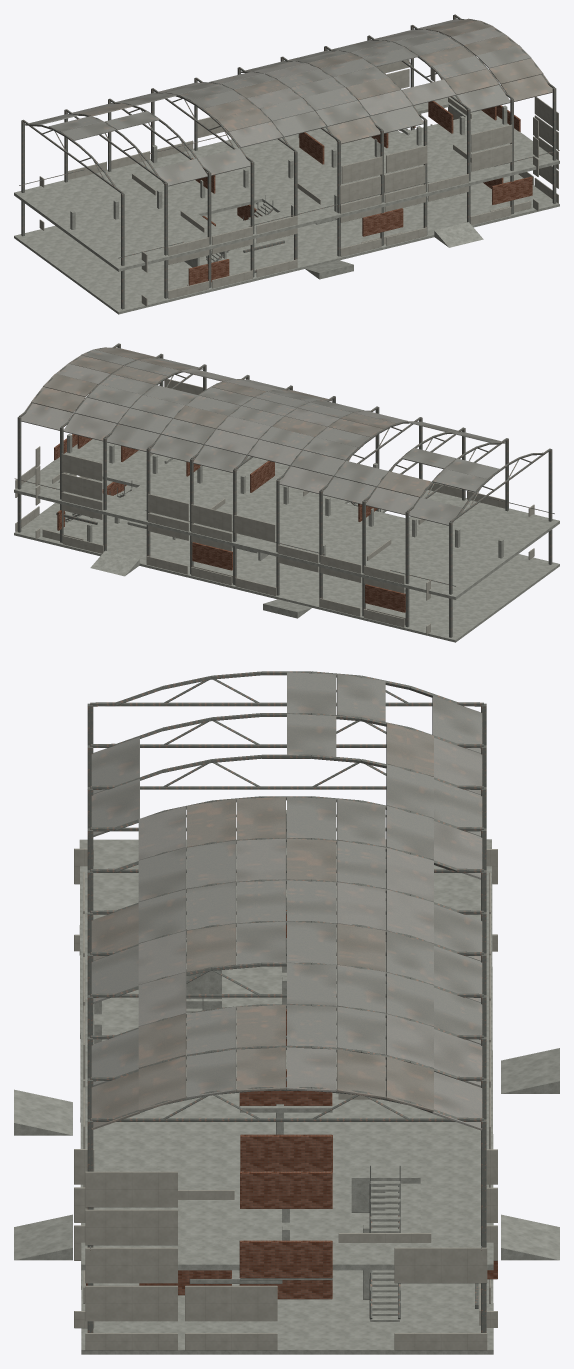
Rendered from fortress-shell-lod0.glb.
3 renders of one model, top to bottom at view 1: azimuth 30°, elevation 25°; view 2: azimuth 150°, elevation 25°; view 3: azimuth 270°, elevation 25°, orthographic. The views are drawn at different scales.
Parts seen in each view (by area): view 1: GroundSlab, BATCH_FLOOR_floor_1_floor_1_cement_board_FLOOR_floor_1, BATCH_STRUCTURE_shared_ground_steel_STRUCTURE_shared, UpperSlab_11, UpperSlab_02, BATCH_FLOOR_ground_ground_cement_board_FLOOR_ground, BATCH_FLOOR_ground_ground_brick_FLOOR_ground, UpperSlab_04, UpperSlab_06, UpperSlab_03, UpperSlab_01, UpperSlab_00 (+62 smaller); view 2: GroundSlab, BATCH_FLOOR_floor_1_floor_1_cement_board_FLOOR_floor_1, BATCH_STRUCTURE_shared_ground_steel_STRUCTURE_shared, UpperSlab_11, UpperSlab_02, BATCH_FLOOR_ground_ground_cement_board_FLOOR_ground, UpperSlab_13, BATCH_FLOOR_ground_ground_brick_FLOOR_ground, UpperSlab_03, UpperSlab_04, BATCH_FLOOR_ground_ground_concrete_FLOOR_ground, UpperSlab_00 (+64 smaller); view 3: BATCH_FLOOR_floor_1_floor_1_cement_board_FLOOR_floor_1, GroundSlab, BATCH_FLOOR_ground_ground_cement_board_FLOOR_ground, BATCH_FLOOR_ground_ground_concrete_FLOOR_ground, BATCH_FLOOR_floor_1_floor_1_brick_FLOOR_floor_1, BATCH_STRUCTURE_shared_ground_steel_STRUCTURE_shared, UpperSlab_12, UpperSlab_10, UpperSlab_16, UpperSlab_09, UpperSlab_11, BATCH_FLOOR_floor_1_floor_1_concrete_FLOOR_floor_1 (+81 smaller).
Part boxes in pixels (x1,y1,x2,y2): GroundSlab: (14,174,559,314); BATCH_FLOOR_floor_1_floor_1_cement_board_FLOOR_floor_1: (39,59,558,272); BATCH_STRUCTURE_shared_ground_steel_STRUCTURE_shared: (21,15,556,309); UpperSlab_11: (230,133,433,198); UpperSlab_02: (49,190,198,244); BATCH_FLOOR_ground_ground_cement_board_FLOOR_ground: (39,124,558,306); BATCH_FLOOR_ground_ground_brick_FLOOR_ground: (188,126,532,285); UpperSlab_04: (14,164,147,208); UpperSlab_06: (168,174,262,216); UpperSlab_03: (32,177,164,220); UpperSlab_01: (82,214,216,257); UpperSlab_00: (100,227,234,271); GroundSlab: (14,478,559,642); BATCH_FLOOR_floor_1_floor_1_cement_board_FLOOR_floor_1: (15,374,534,600); BATCH_STRUCTURE_shared_ground_steel_STRUCTURE_shared: (17,344,552,637); UpperSlab_11: (140,461,343,527); UpperSlab_02: (375,519,523,573); BATCH_FLOOR_ground_ground_cement_board_FLOOR_ground: (15,476,534,634); UpperSlab_13: (104,498,293,556); BATCH_FLOOR_ground_ground_brick_FLOOR_ground: (57,482,405,612); UpperSlab_03: (357,543,491,586); UpperSlab_04: (339,555,473,599); BATCH_FLOOR_ground_ground_concrete_FLOOR_ground: (87,502,405,618); UpperSlab_00: (433,493,559,536); BATCH_FLOOR_floor_1_floor_1_cement_board_FLOOR_floor_1: (74,848,497,1283); GroundSlab: (79,925,493,1354); BATCH_FLOOR_ground_ground_cement_board_FLOOR_ground: (74,934,497,1350); BATCH_FLOOR_ground_ground_concrete_FLOOR_ground: (14,967,559,1299); BATCH_FLOOR_floor_1_floor_1_brick_FLOOR_floor_1: (239,910,332,1278); BATCH_STRUCTURE_shared_ground_steel_STRUCTURE_shared: (87,703,486,1332); UpperSlab_12: (351,1013,420,1183); UpperSlab_10: (151,1012,221,1177); UpperSlab_16: (222,1178,351,1240); UpperSlab_09: (80,1012,151,1171); UpperSlab_11: (222,1012,351,1177); BATCH_FLOOR_floor_1_floor_1_concrete_FLOOR_floor_1: (94,810,399,1321).
Bounding box in the file's own units: 61.61 × 17.78 × 33.25.
Materials: 7 (7 with a texture image).
